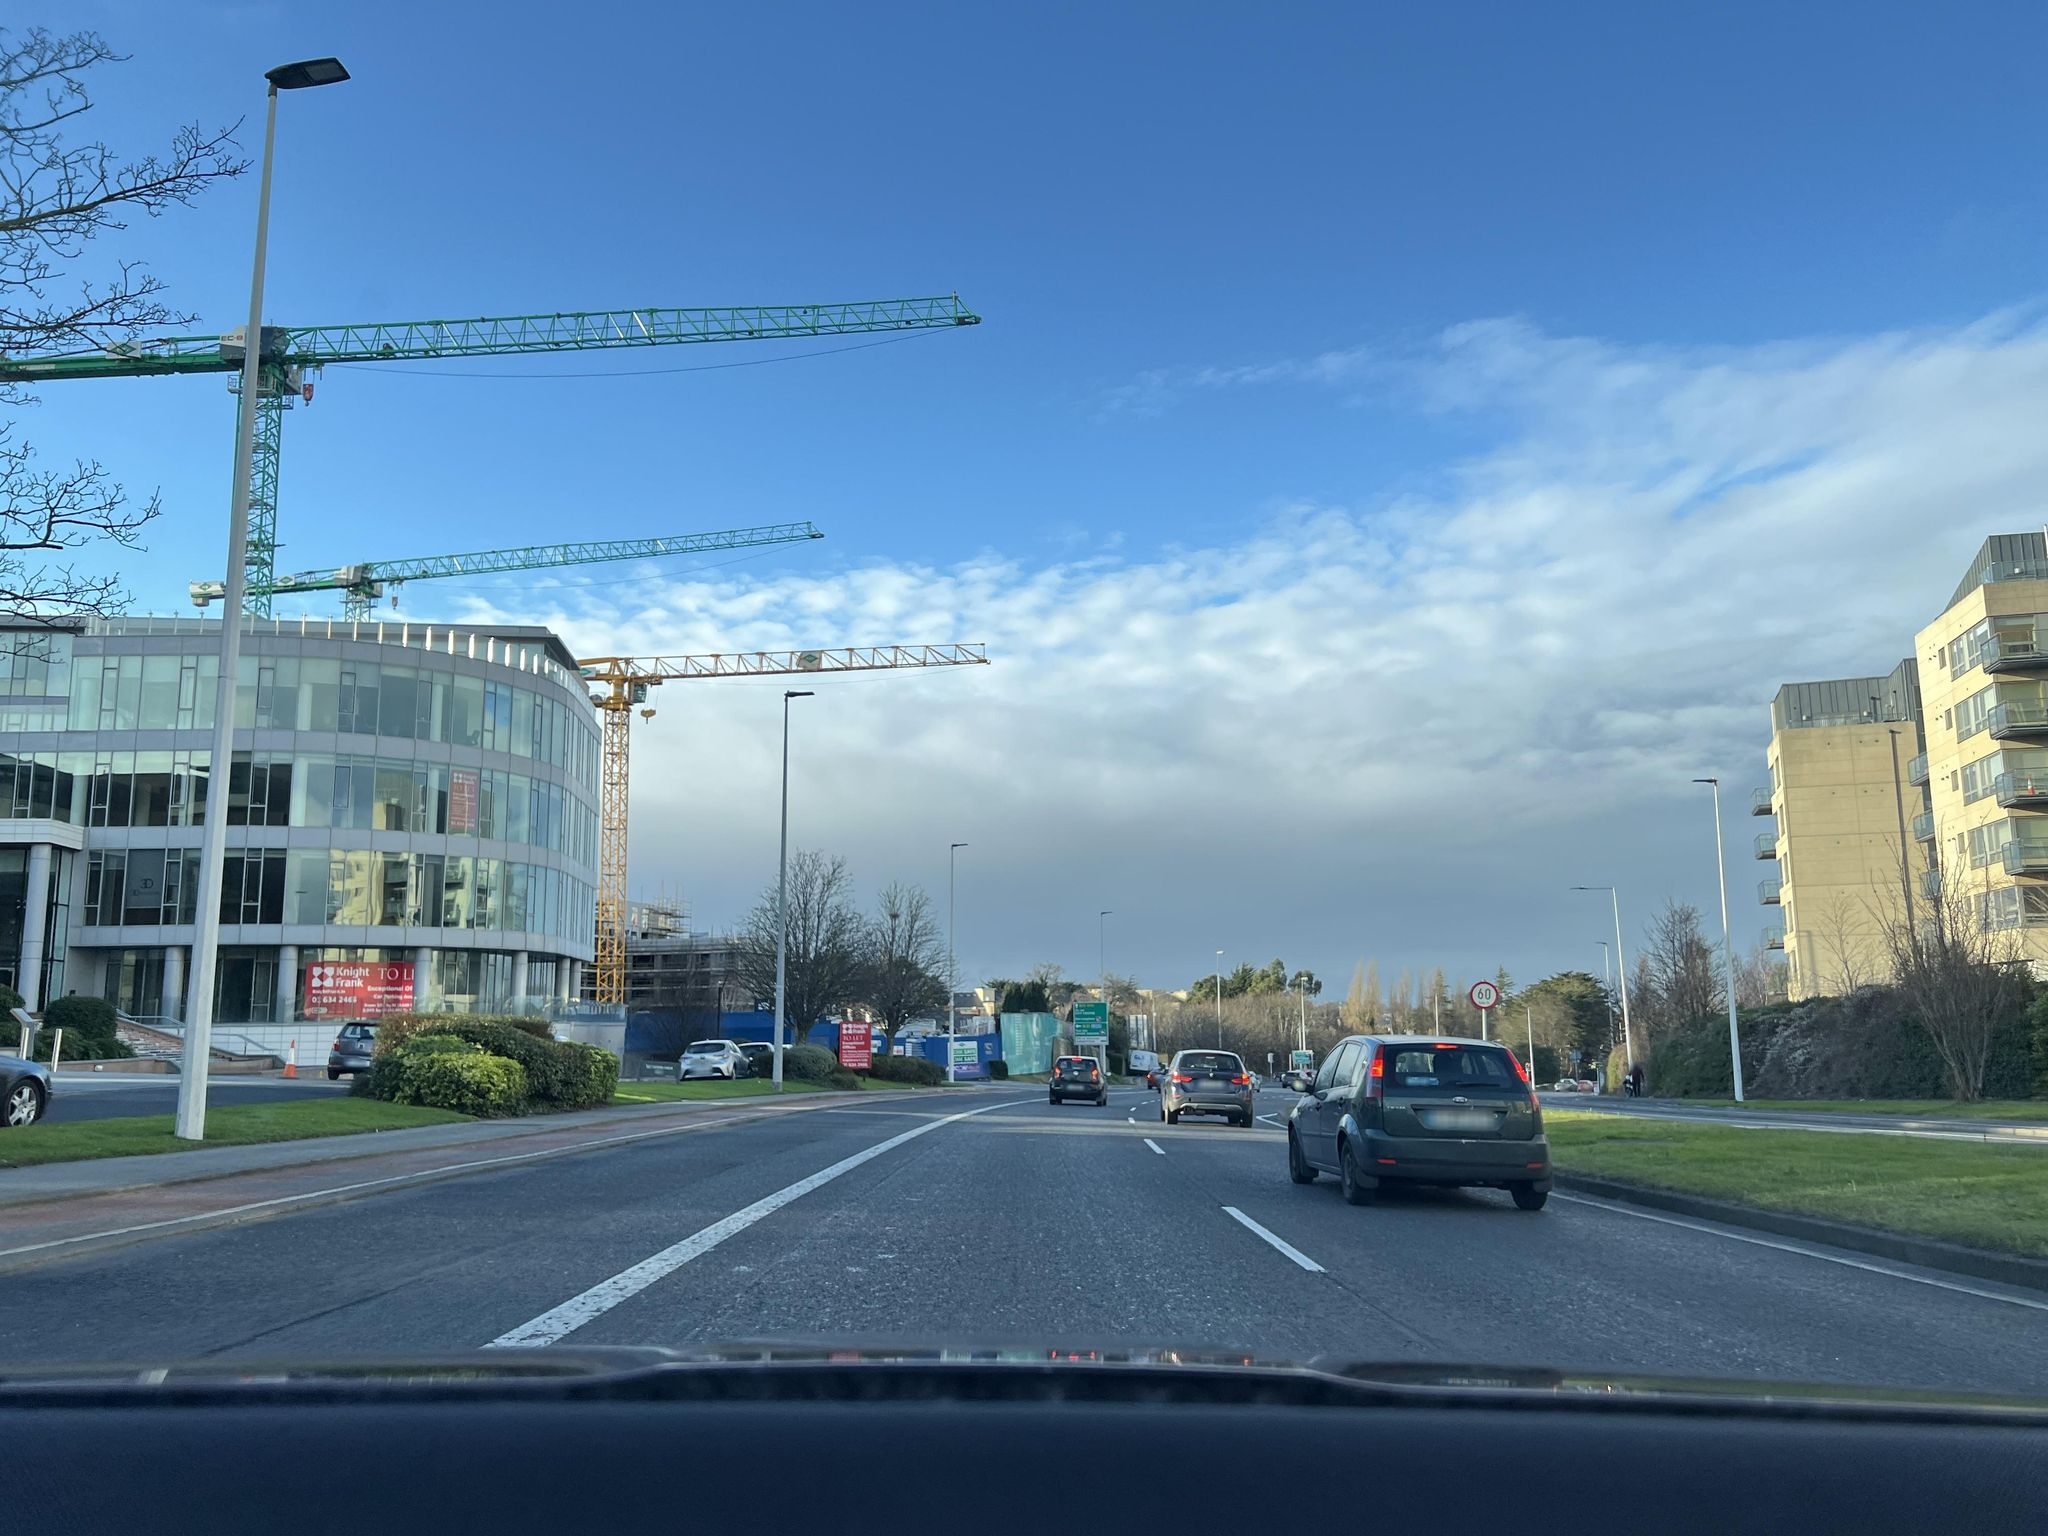property sign: (827, 1002, 893, 1083)
